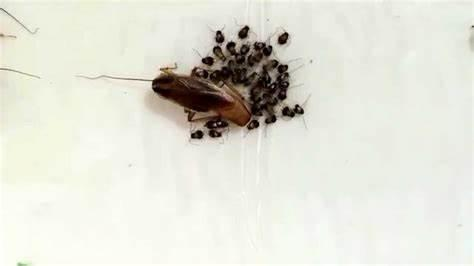cockroach: (149, 72, 236, 116), (276, 30, 292, 46), (206, 128, 224, 142), (214, 116, 232, 130), (281, 103, 295, 120), (236, 24, 254, 37), (244, 118, 259, 133), (262, 57, 278, 71), (214, 46, 226, 64), (244, 70, 258, 85), (295, 102, 307, 118), (276, 71, 292, 82), (192, 128, 204, 142), (263, 114, 276, 126), (262, 44, 274, 57), (205, 117, 217, 129), (198, 58, 216, 66), (278, 80, 290, 92), (234, 51, 245, 64), (226, 41, 236, 55), (222, 66, 231, 80), (215, 31, 226, 42), (268, 82, 279, 93), (253, 40, 264, 50), (278, 63, 289, 73), (278, 90, 289, 100), (240, 44, 249, 55)
